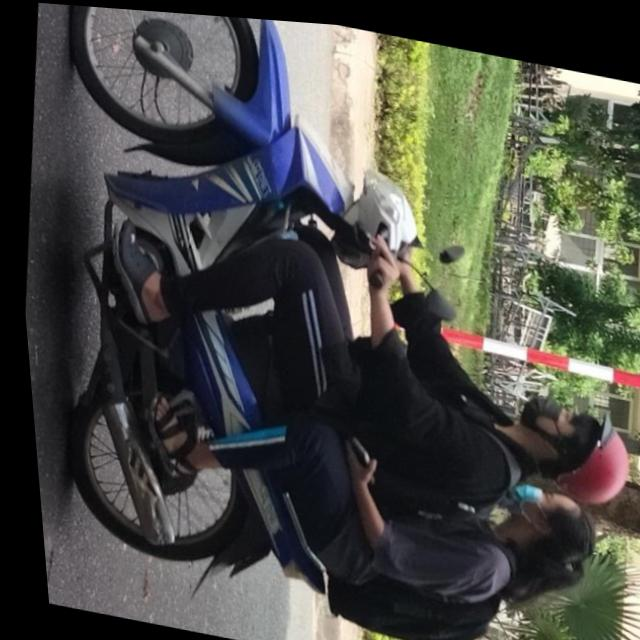WITH_HELMET: (532, 387, 630, 502)
